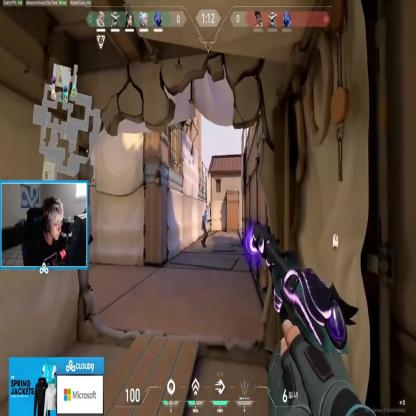enemy: (200, 203, 210, 248)
enemy_head: (206, 204, 209, 210)
